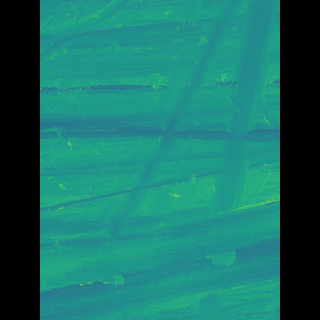Loch: (104, 0, 248, 244), (69, 199, 250, 320)
